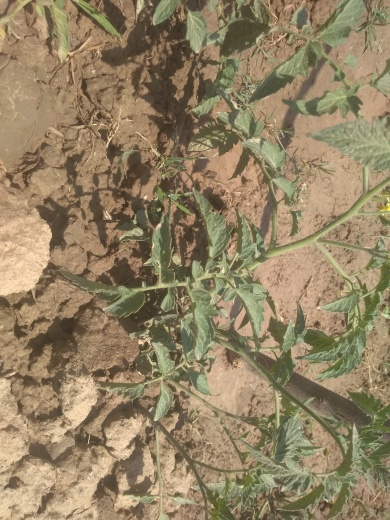tomato diseased leaf: (38, 1, 77, 73)
tomato plant: (104, 183, 252, 392)
